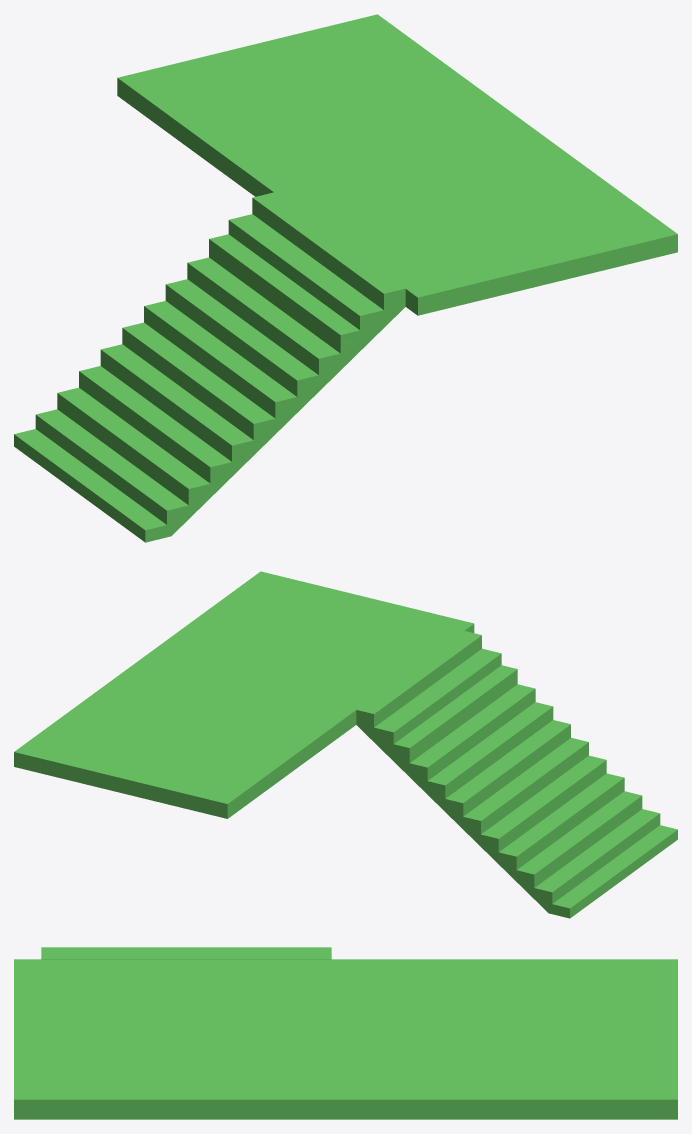
File: Gen_Staircase_Int_B.fbx
The picture shows the model from 3 angles, top to bottom: view 1: azimuth 30°, elevation 25°; view 2: azimuth 150°, elevation 25°; view 3: azimuth 270°, elevation 25°; orthographic projection. The views are drawn at different scales.
Visible parts, largest first — view 1: Gen_Staircase_Int_B; view 2: Gen_Staircase_Int_B; view 3: Gen_Staircase_Int_B.
Part boxes in pixels (x1,y1,x2,y2): Gen_Staircase_Int_B: (14,14,677,542); Gen_Staircase_Int_B: (14,571,677,918); Gen_Staircase_Int_B: (14,947,677,1119).
Bounding box in the file's own units: 600 × 210 × 600.
